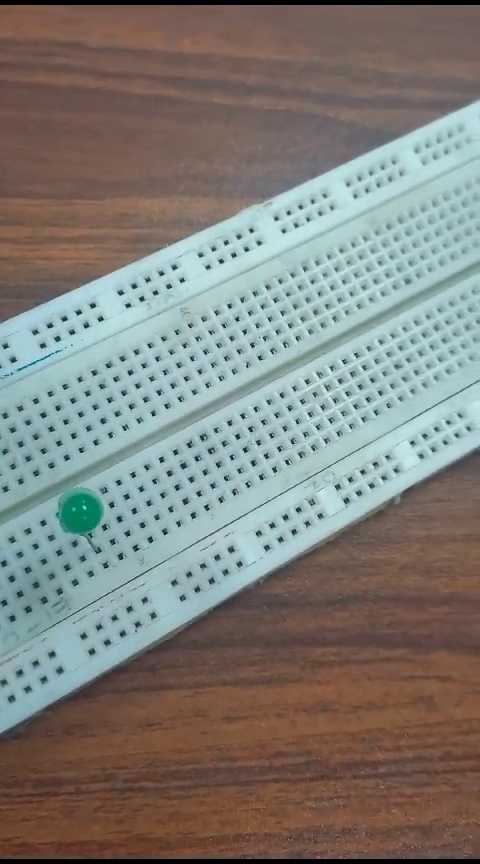LED: (46, 487, 110, 543)
